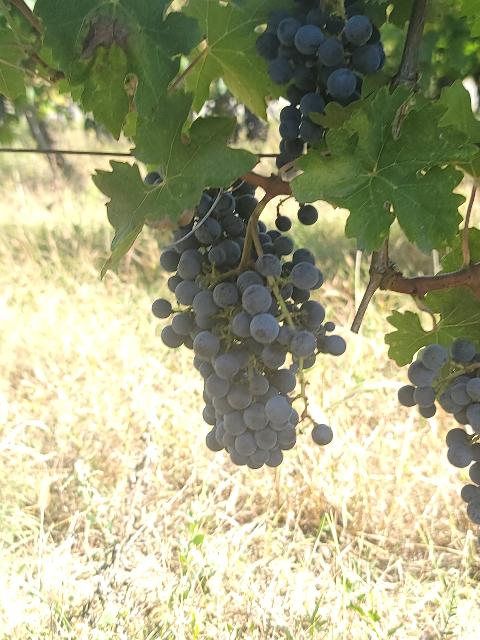grapes: (162, 235, 346, 469), (256, 0, 385, 162), (398, 339, 480, 524)
